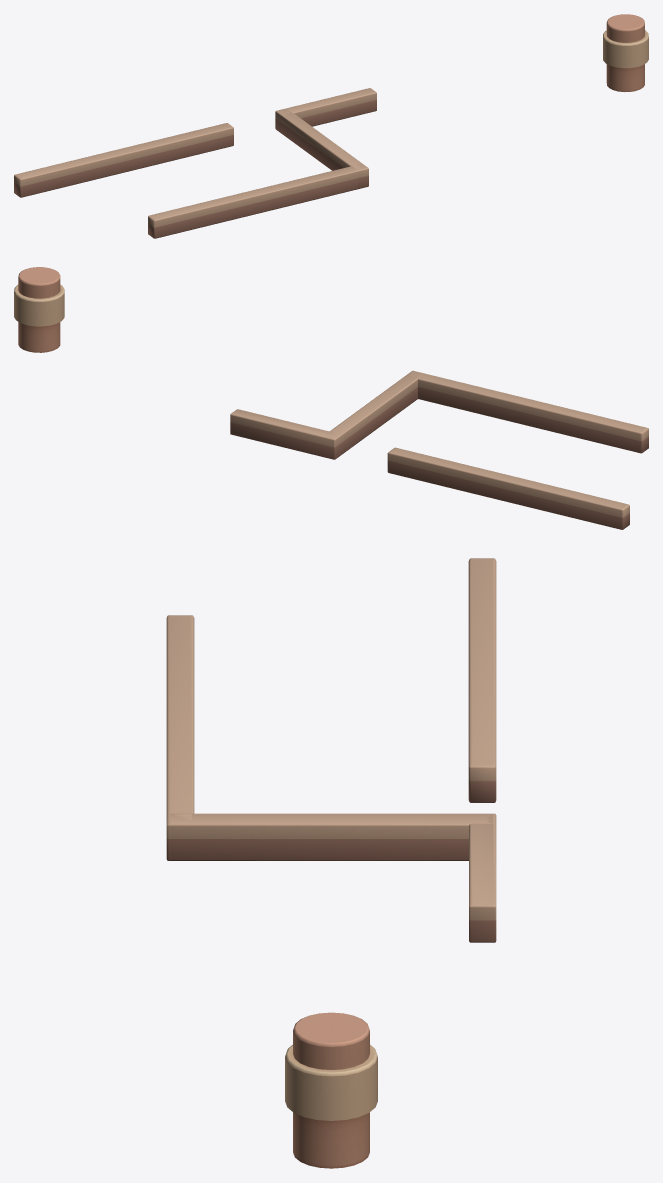
The model's file is Props.fbx.
The picture shows the model from 3 angles, top to bottom: view 1: azimuth 30°, elevation 25°; view 2: azimuth 150°, elevation 25°; view 3: azimuth 270°, elevation 25°; orthographic projection. The views are drawn at different scales.
Parts seen in each view (by area): view 1: Box20-3_2 (3), Box20-3_2 (2), Cylinder-2, Box20-3_2 (1), Box20-3_2; view 2: Box20-3_2 (3), Box20-3_2 (2), Cylinder-2, Box20-3_2, Box20-3_2 (1); view 3: Box20-3_2 (1), Cylinder-2, Box20-3_2 (3), Box20-3_2 (2), Box20-3_2.
Boxes of the visible parts, box(x1,y1,x2,y2) form: Box20-3_2 (3): box(14, 123, 233, 197); Box20-3_2 (2): box(148, 164, 365, 238); Cylinder-2: box(603, 14, 648, 91); Box20-3_2 (1): box(275, 109, 368, 188); Box20-3_2: box(276, 88, 376, 126); Box20-3_2 (3): box(387, 447, 629, 529); Box20-3_2 (2): box(411, 371, 648, 453); Cylinder-2: box(14, 267, 64, 352); Box20-3_2: box(230, 409, 336, 459); Box20-3_2 (1): box(325, 370, 423, 459); Box20-3_2 (1): box(166, 813, 493, 860); Cylinder-2: box(285, 1012, 377, 1168); Box20-3_2 (3): box(468, 558, 496, 802); Box20-3_2 (2): box(166, 615, 194, 821); Box20-3_2: box(469, 813, 496, 942).
Bounding box in the file's own units: 49.69 × 5 × 12.
Materials: 2 (2 with a texture image).
